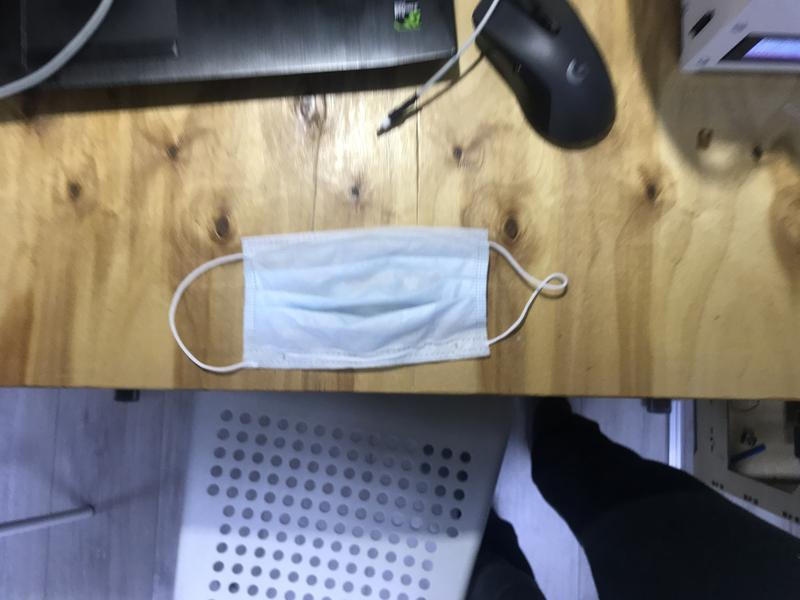medical_mask: (169, 227, 568, 374)
